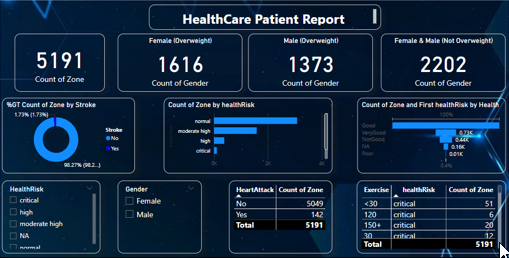

Layout of this report page (visuals, bound fields, positions):
{"tool":"powerbi","page":{"name":"Page 1","canvas":[1300,630],"ordinal":0},"visuals":[{"type":"textbox","box":[377.1,10,564.3,61.4],"z":0},{"type":"card","fields":{"Values":["CountNonNull(Sample_Data.Zone)"]},"box":[50,81.4,218.6,141.4],"z":1000},{"type":"tableEx","fields":{"Values":["Sample_Data.HeartAttack","Sample_Data.Zone"]},"box":[571.4,438.6,251.4,177.1],"z":2000},{"type":"donutChart","fields":{"Category":["Sample_Data.Stroke"],"Y":["CountNonNull(Sample_Data.Zone)"]},"box":[20,237.1,322.9,184.3],"z":3000},{"type":"barChart","fields":{"Category":["Sample_Data.healthRisk"],"Y":["CountNonNull(Sample_Data.Zone)"]},"box":[412.9,237.1,410,184.3],"z":4000},{"type":"tableEx","fields":{"Values":["Sample_Data.Exercise","Sample_Data.healthRisk","Sample_Data.Zone"]},"box":[882.9,438.6,362.9,177.1],"z":5000},{"type":"slicer","fields":{"Values":["Sample_Data.Gender"]},"box":[301.4,438.6,204.3,177.1],"z":6000},{"type":"slicer","fields":{"Values":["Sample_Data.healthRisk"]},"box":[20,438.6,238.6,177.1],"z":7000},{"type":"funnel","fields":{"Category":["Sample_Data.Health"],"Y":["CountNonNull(Sample_Data.Zone)"]},"box":[884.3,237.1,361.4,184.3],"z":8000},{"type":"card","title":"Female (Overweight)","fields":{"Values":["CountNonNull(Sample_Data.Gender)"]},"box":[301.4,81.4,302.9,141.4],"z":9000},{"type":"card","title":"Male (Overweight)","fields":{"Values":["CountNonNull(Sample_Data.Gender)"]},"box":[618.6,81.4,302.9,141.4],"z":10000},{"type":"card","title":"Female & Male (Not Overweight)","fields":{"Values":["CountNonNull(Sample_Data.Gender)"]},"box":[941.4,81.4,302.9,141.4],"z":11000}]}

Visuals, with their boxes in screenshot pixels (x1, y1, x2, y2):
textbox: (146,3,380,28)
card - CountNonNull(Sample_Data.Zone): (10,32,101,91)
tableEx - Sample_Data.HeartAttack x Sample_Data.Zone: (227,181,331,254)
donutChart - Sample_Data.Stroke x CountNonNull(Sample_Data.Zone): (0,97,132,174)
barChart - Sample_Data.healthRisk x CountNonNull(Sample_Data.Zone): (161,97,331,174)
tableEx - Sample_Data.Exercise x Sample_Data.healthRisk: (356,181,506,254)
slicer - Sample_Data.Gender: (114,181,199,254)
slicer - Sample_Data.healthRisk: (0,181,97,254)
funnel - Sample_Data.Health x CountNonNull(Sample_Data.Zone): (356,97,506,174)
"Female (Overweight)" card: (114,32,240,91)
"Male (Overweight)" card: (246,32,372,91)
"Female & Male (Not Overweight)" card: (380,32,506,91)
